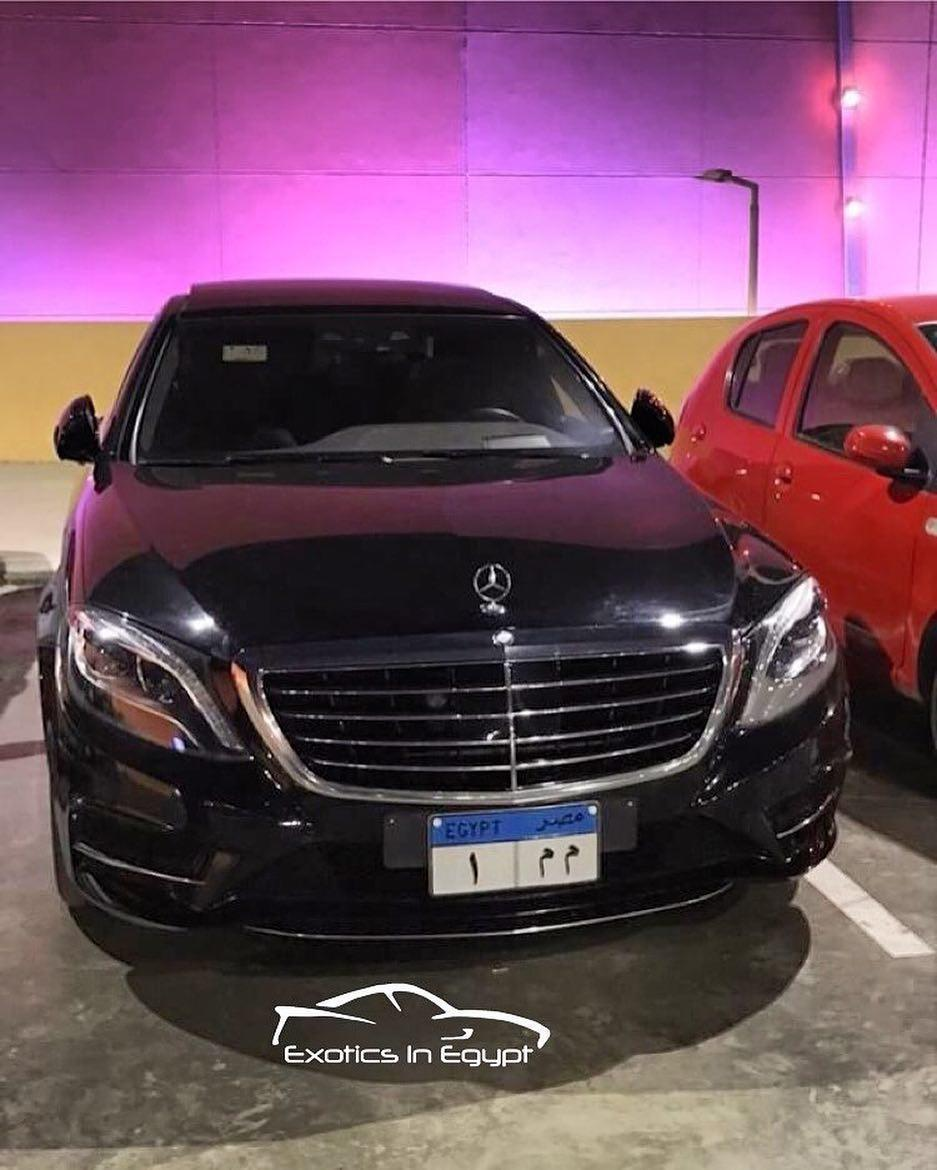1: (463, 850, 486, 889)
License Plate: (425, 797, 603, 898)
Meem: (533, 842, 559, 882), (560, 840, 580, 878)
car: (50, 280, 853, 982), (720, 313, 937, 763)
